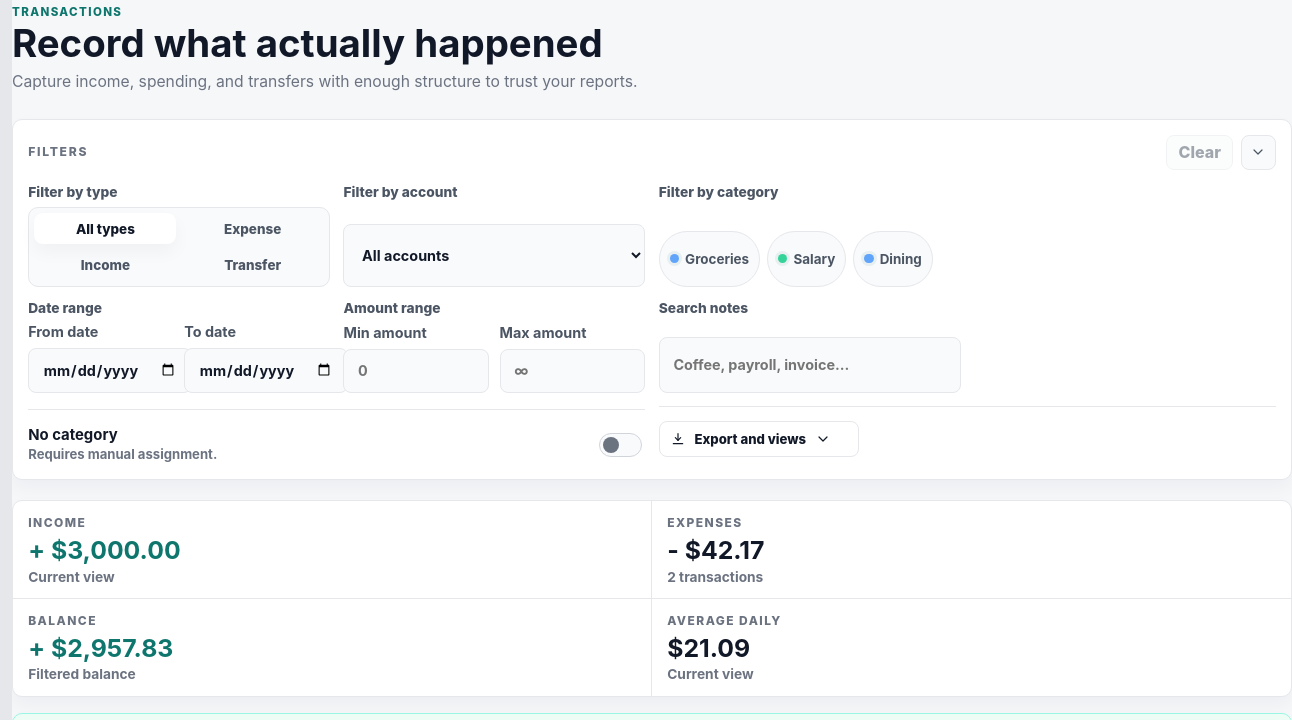
TransactionsPage › explains why category chips are unavailable for transfer filters
The image size is (1292, 720).
What coordinates should you click on to do the following:
click the button "Transfer"
I would click on:
 (253, 265)
Its box is [182, 249, 324, 281].
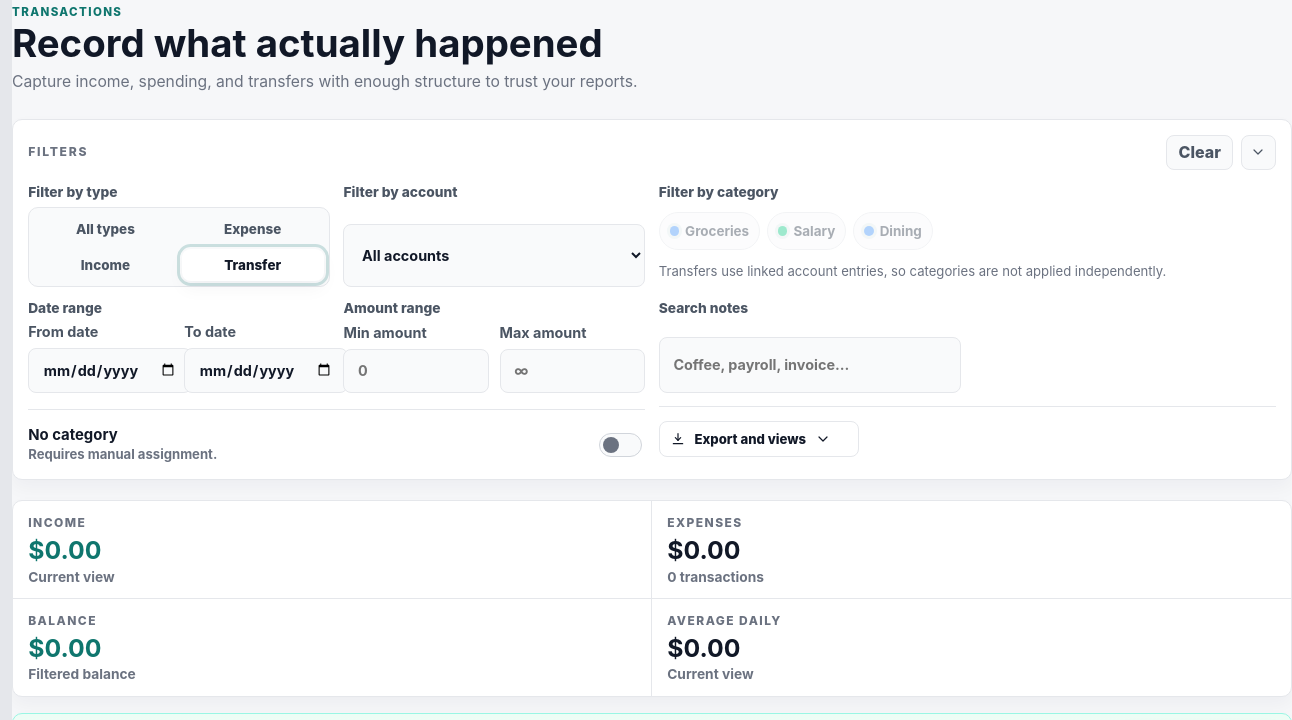
Check: the text "Transfers use linked account entries, so categories are not applied independently." is shown, box [659, 263, 1166, 279]
Check: the checkbox labelled "Groceries" is disabled, box [659, 212, 760, 250]
Check: the checkbox labelled "Salary" is disabled, box [767, 212, 846, 250]
